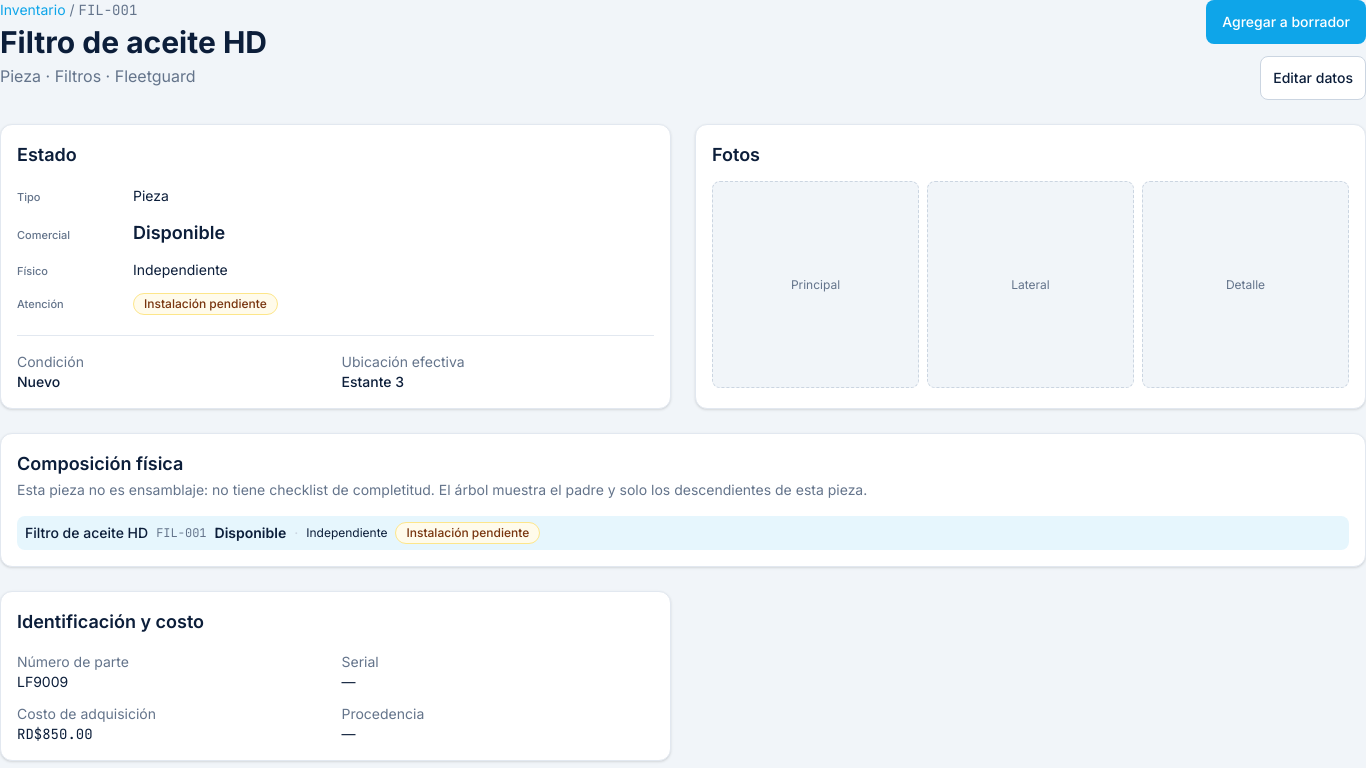
InventoryDetailPage › lets a seller correct ordinary item details from the detail screen
This screenshot has width=1366, height=768.
Check: the heading "Filtro de aceite HD" is shown, box x1=0 y1=24 x2=267 y2=60
Click the button "Editar datos".
click(1313, 78)  # box x1=1260 y1=56 x2=1365 y2=100
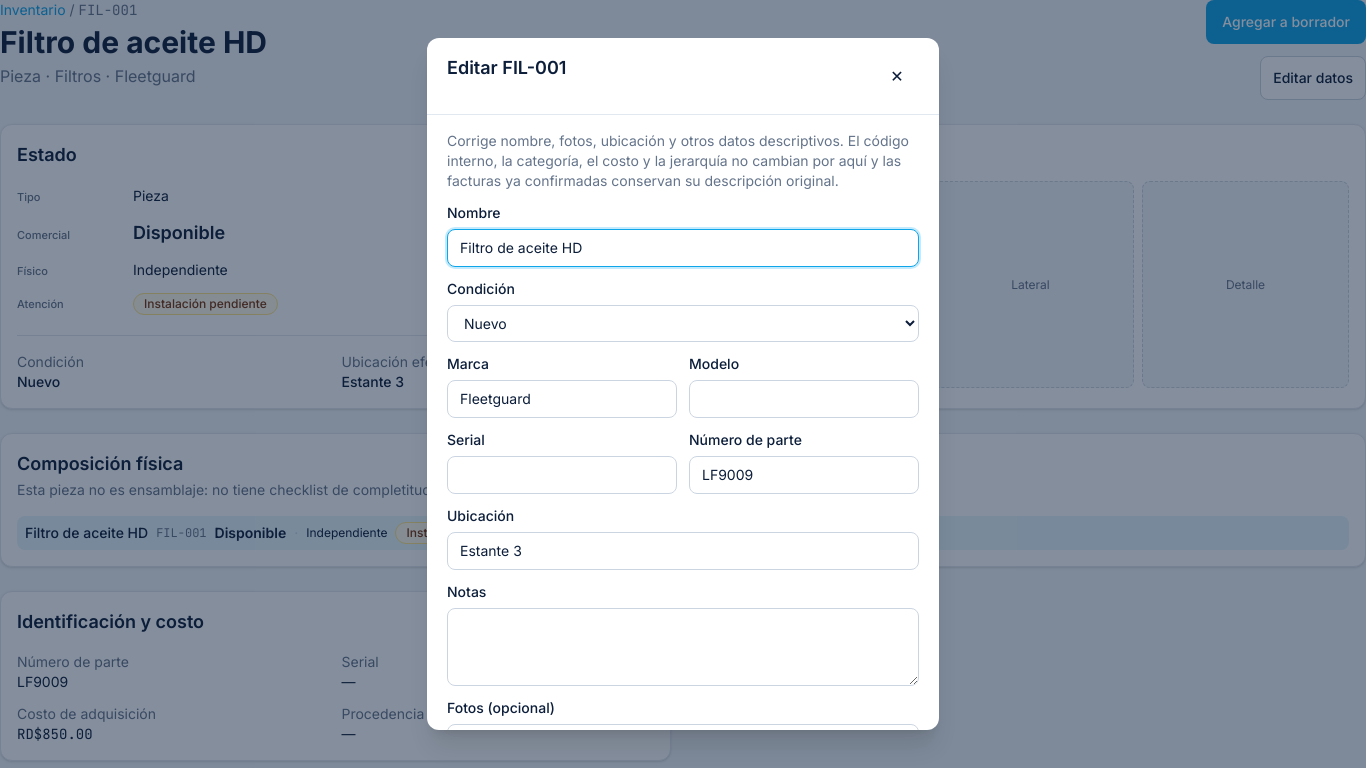
Replace the text in the field labelled "Nombre" with "Filtro HD corregido" at (683, 248), box x1=447 y1=229 x2=919 y2=267
(page scrolled)
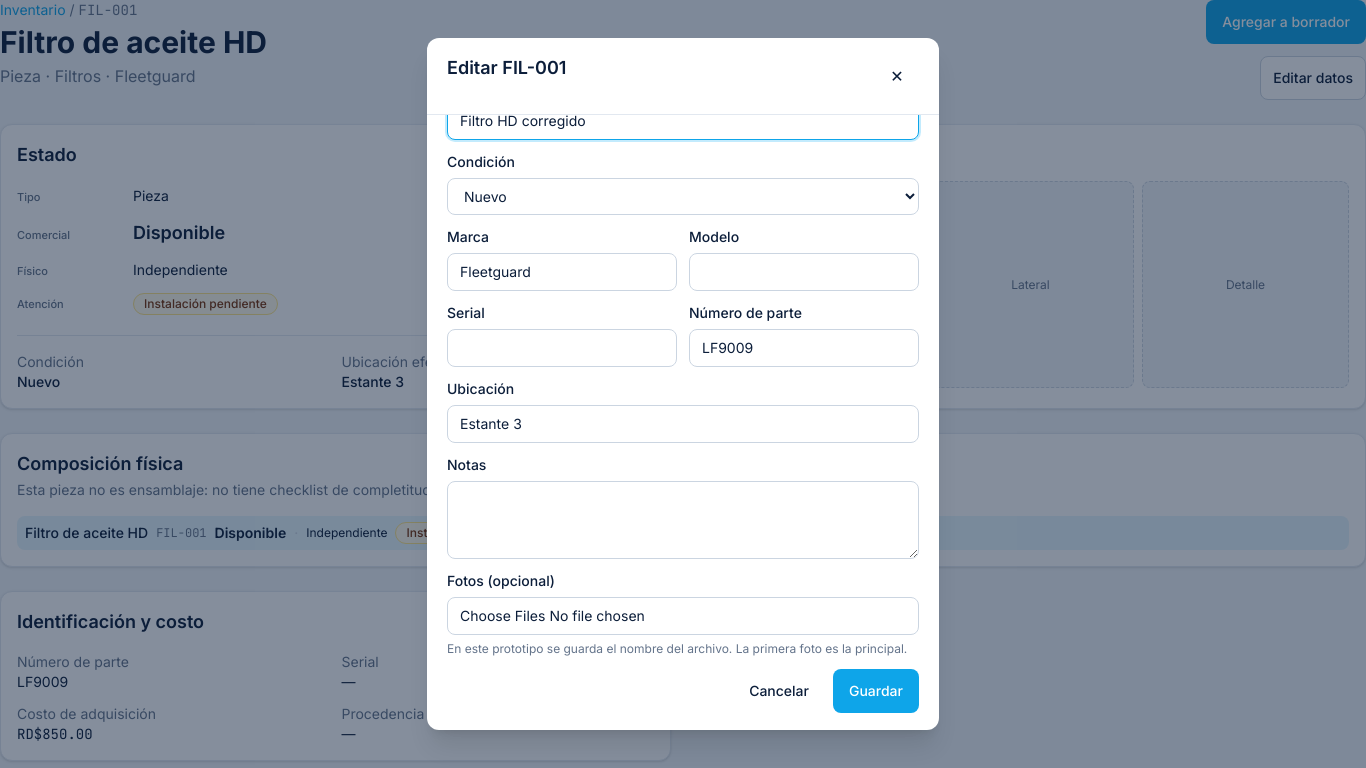
Click the button "Guardar".
click(876, 691)  # box x1=833 y1=669 x2=919 y2=713
(page scrolled)
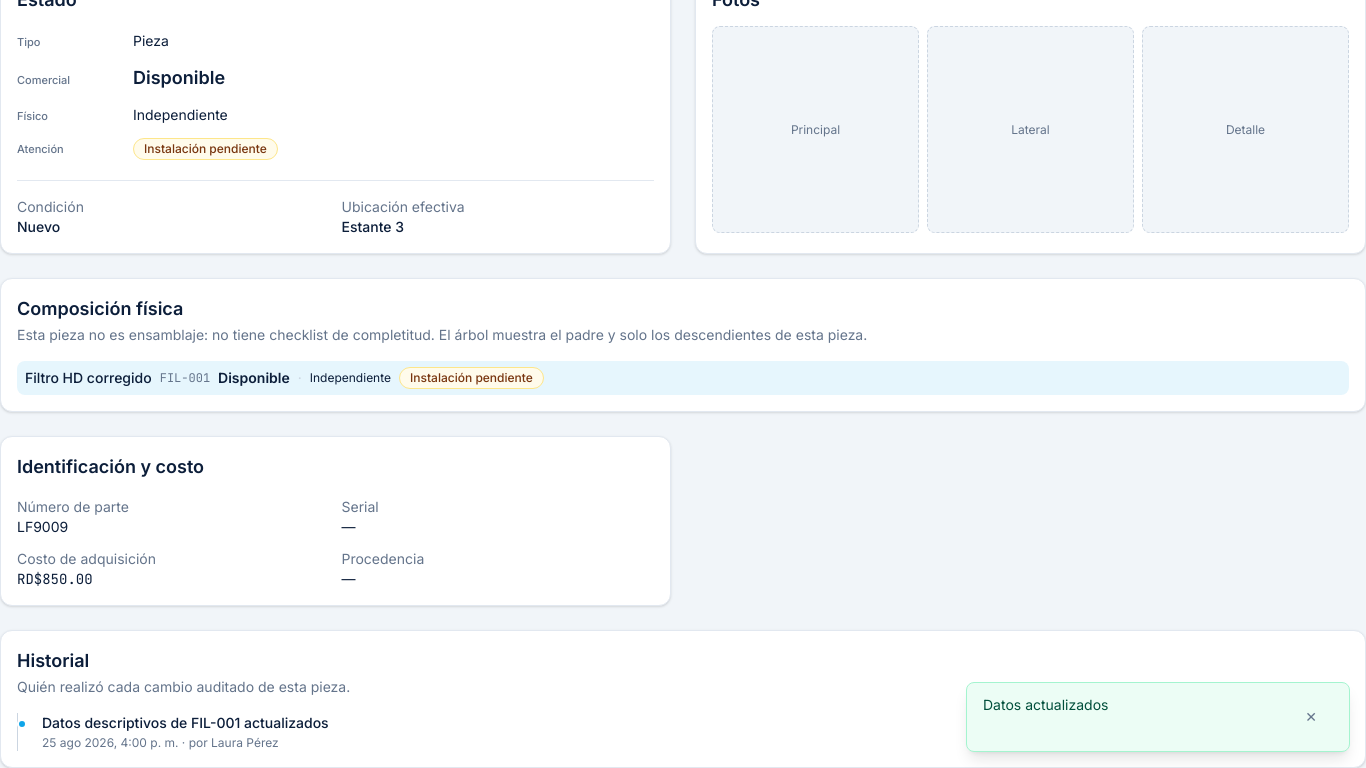
Check: the text "Datos descriptivos de FIL-001 actualizados" is shown, box x1=42 y1=714 x2=329 y2=731
Check: the text "25 ago 2026, 4:00 p. m. · por Laura Pérez" is shown, box x1=42 y1=735 x2=279 y2=750
